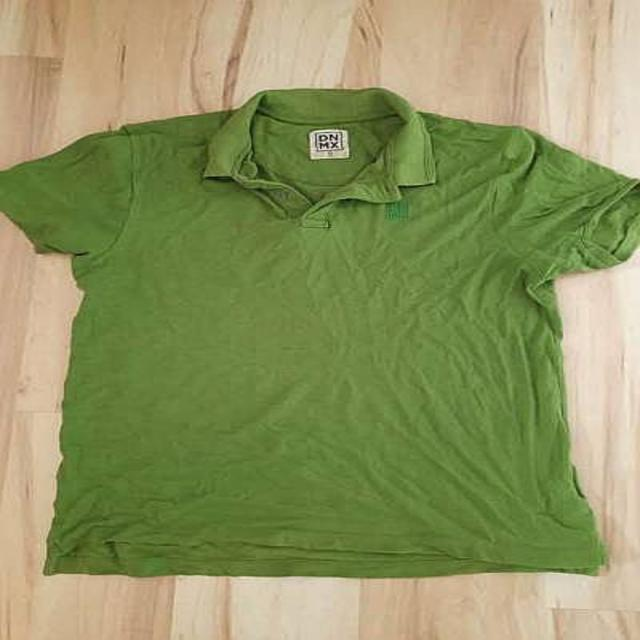T_SHIRT: (3, 81, 640, 584)
